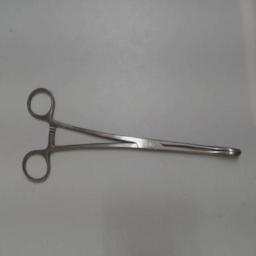Sponge Forceps: (18, 83, 248, 187)
